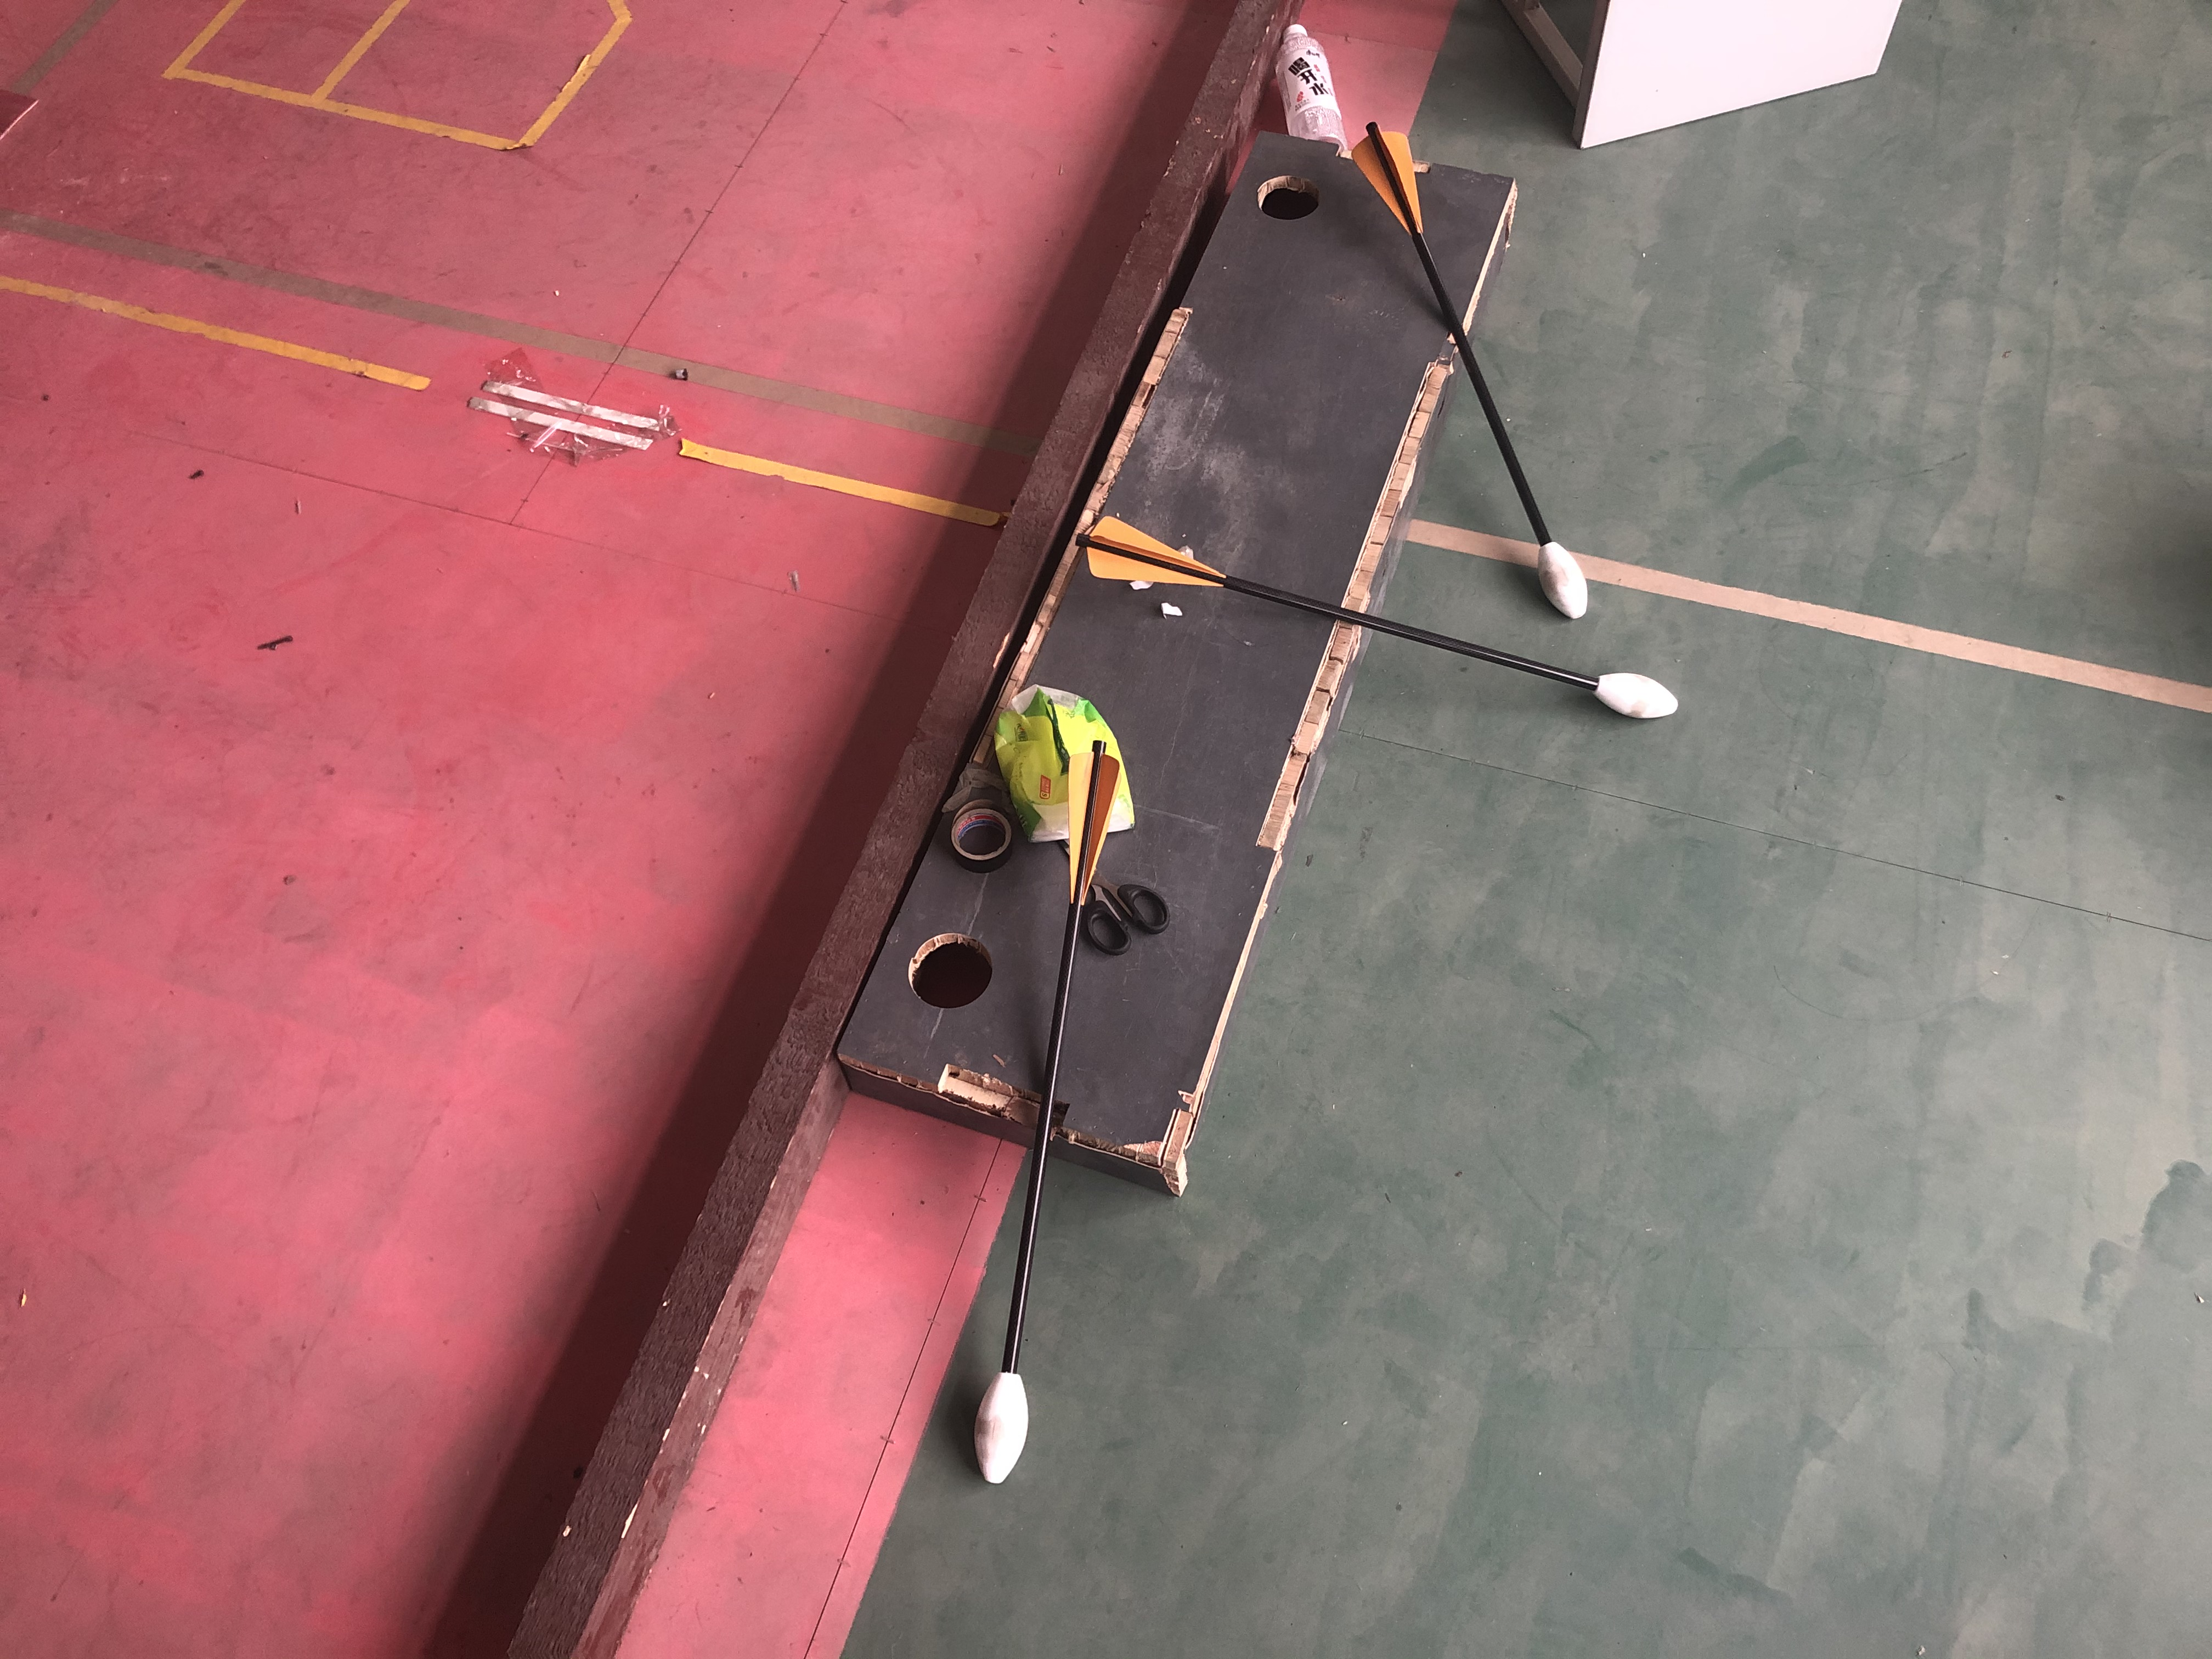arrow: (1338, 120, 1609, 626), (1069, 505, 1688, 725), (970, 730, 1122, 1495)
arrowFront: (974, 1368, 1029, 1488), (1534, 537, 1594, 622), (1588, 671, 1679, 718)
